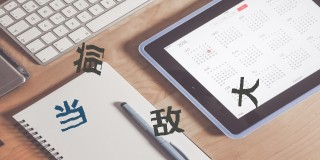前: (74, 42, 105, 76)
大: (232, 77, 259, 106)
当: (54, 99, 87, 133)
敌: (150, 106, 186, 137)
